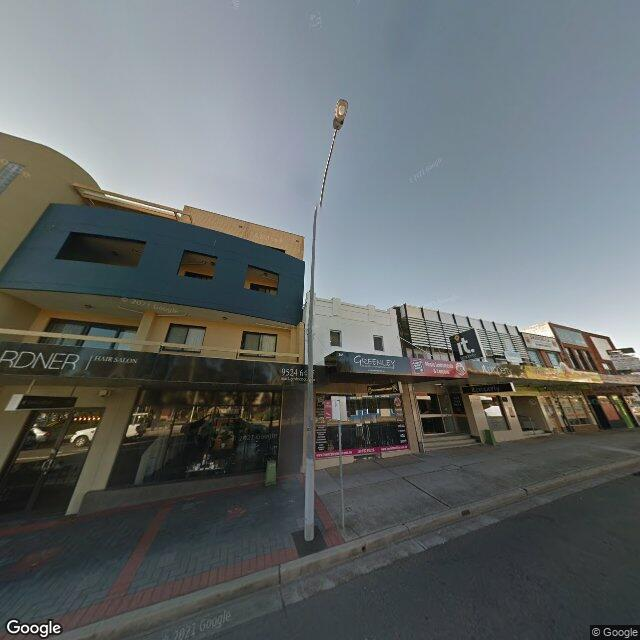steel-pole: (304, 208, 317, 541)
streetlight: (319, 98, 350, 210)
